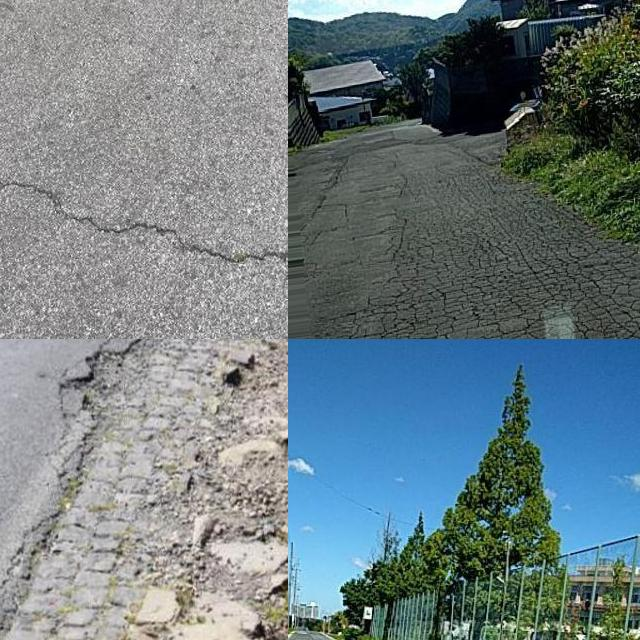Melintang: (0, 163, 288, 281)
Pinggir: (0, 339, 264, 640)
Retak Buaya: (358, 162, 640, 339)
